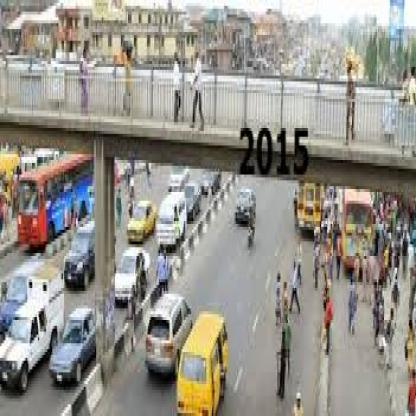car: (6, 264, 71, 391), (175, 308, 232, 416), (51, 296, 107, 395), (147, 276, 192, 376), (102, 234, 154, 298), (150, 178, 190, 260), (224, 171, 260, 228)
